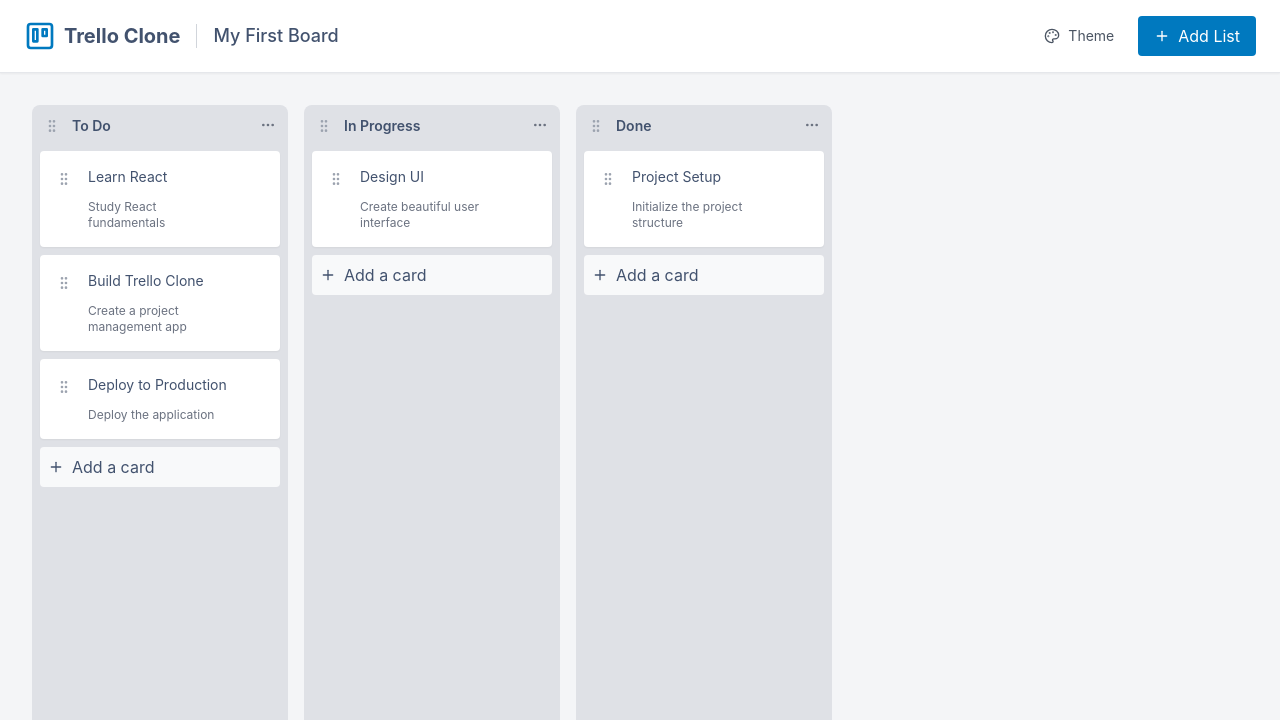
Trello Clone App - Integration Tests › List Management › adds multiple lists
// Add multiple lists
Click the button "Add List". click: (1197, 36)
box: 1138,16 -> 1256,56
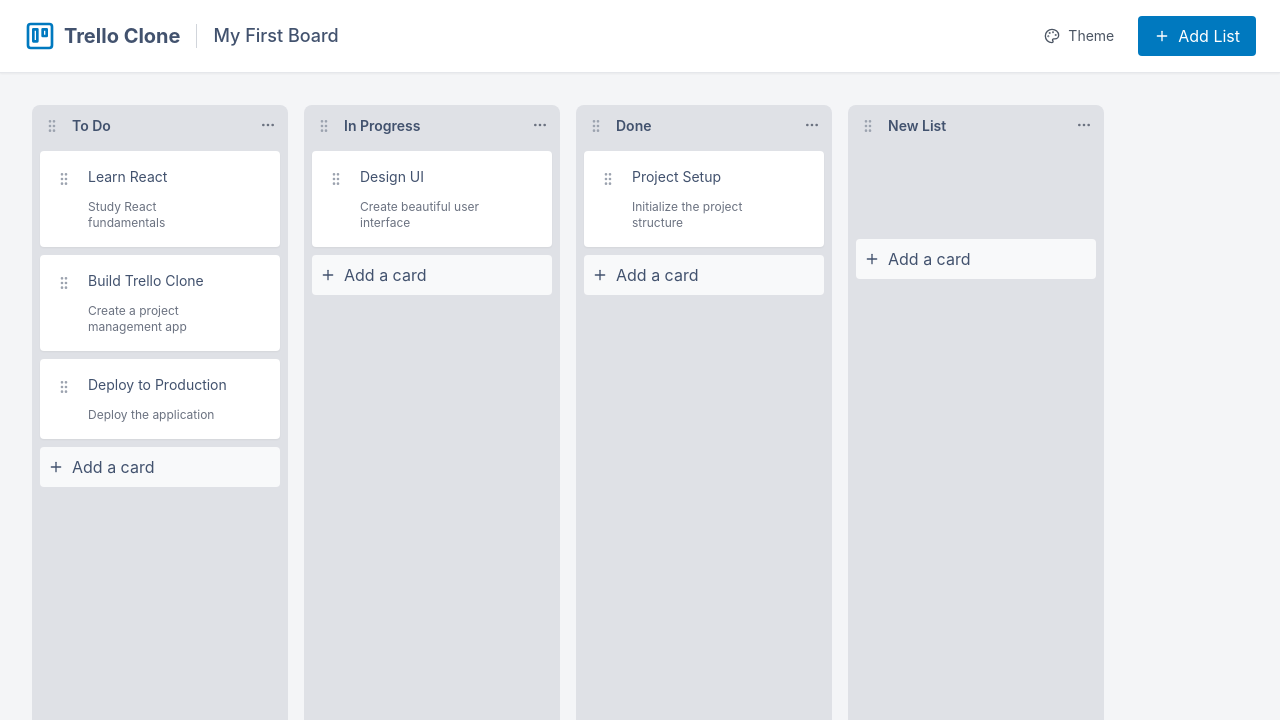
Click the button "Add List". click: (1197, 36)
box: 1138,16 -> 1256,56
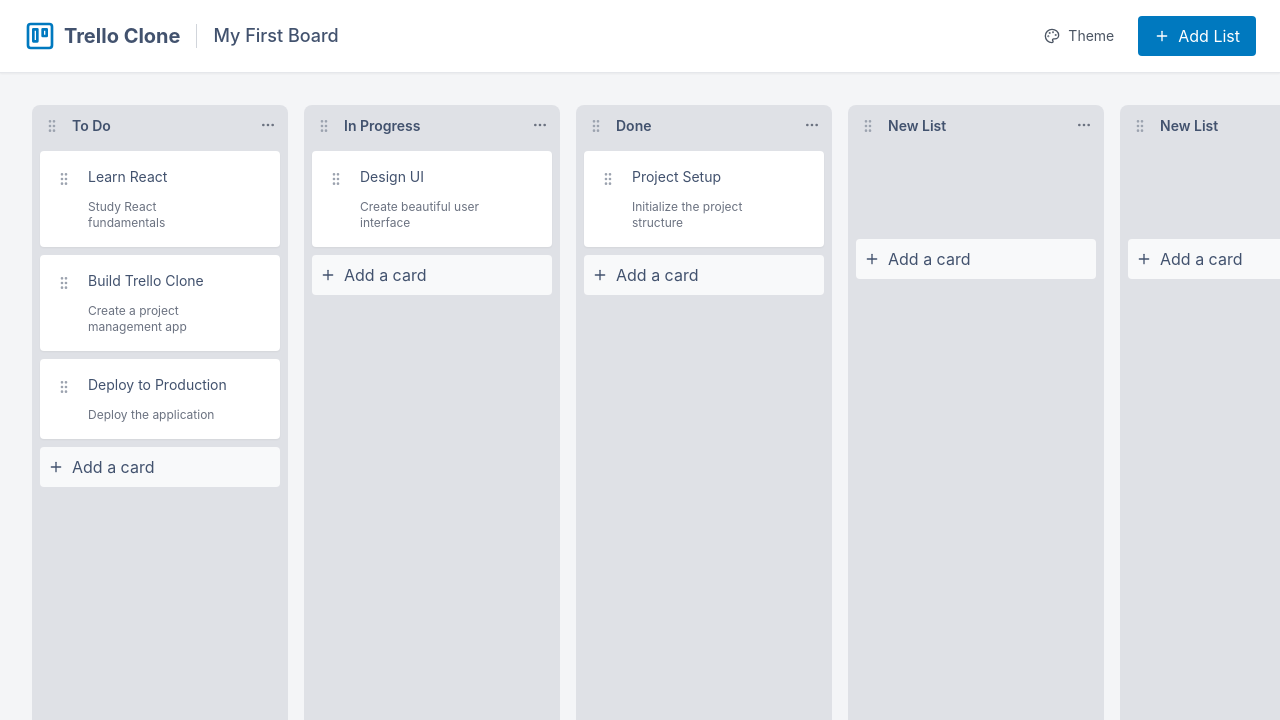
Expected: the number of headings "New List" is 2, 888,117 -> 946,134; 1160,117 -> 1218,134
